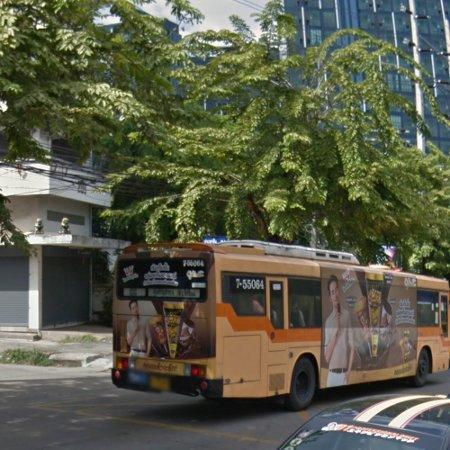buses: (113, 241, 450, 410)
